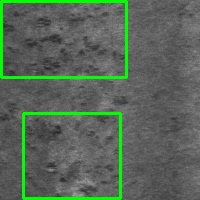rolled-in_scale: (1, 1, 126, 77), (23, 113, 120, 198)
